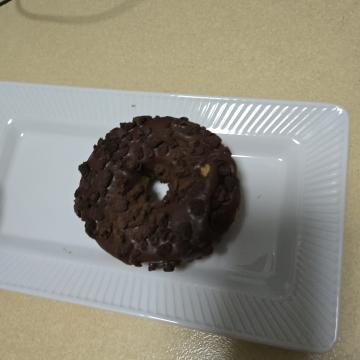doughnut: (104, 113, 282, 295)
